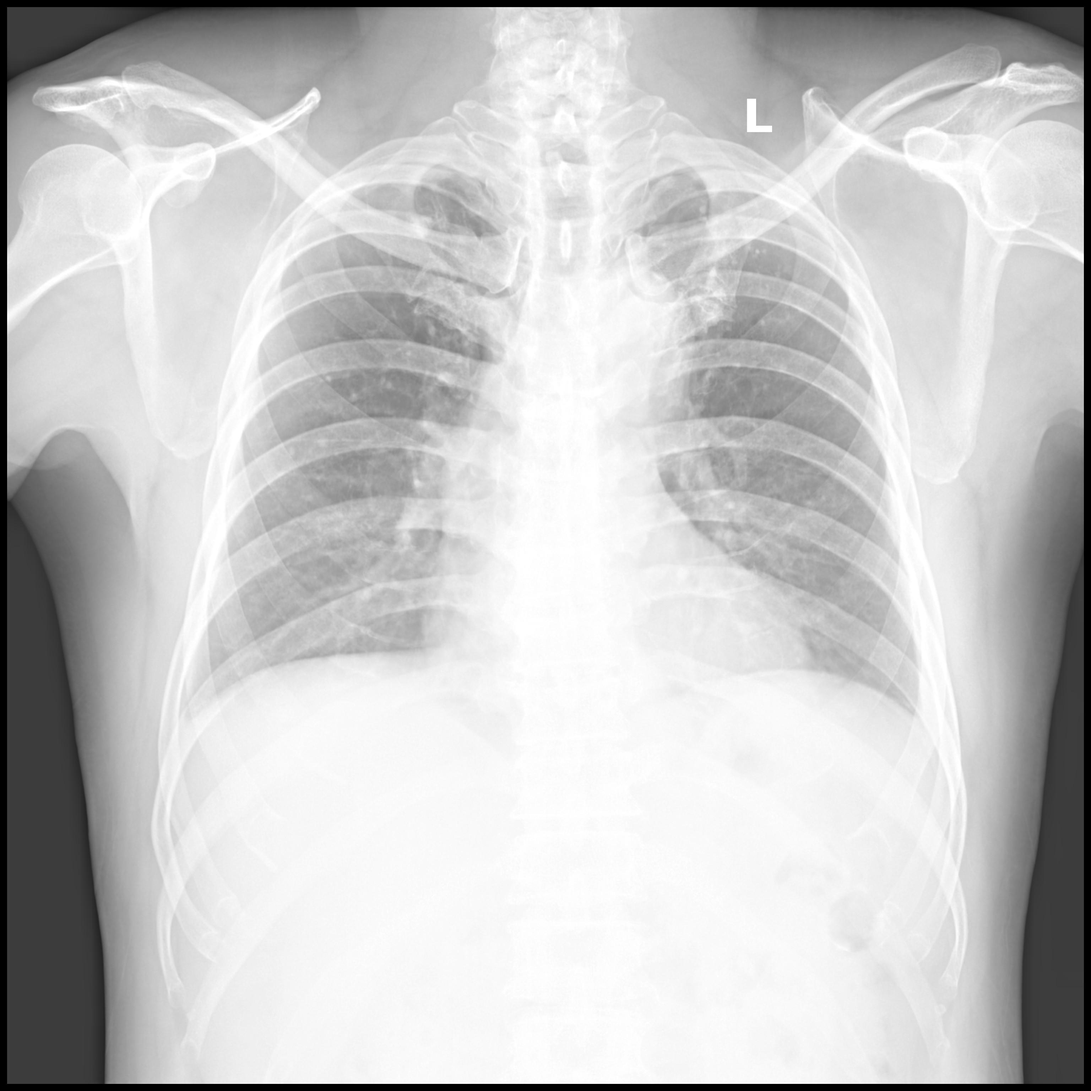Aortic enlargement: (563, 272, 693, 408)
Cardiomegaly: (419, 585, 815, 691)
Pulmonary fibrosis: (699, 203, 769, 259), (418, 183, 455, 235)
